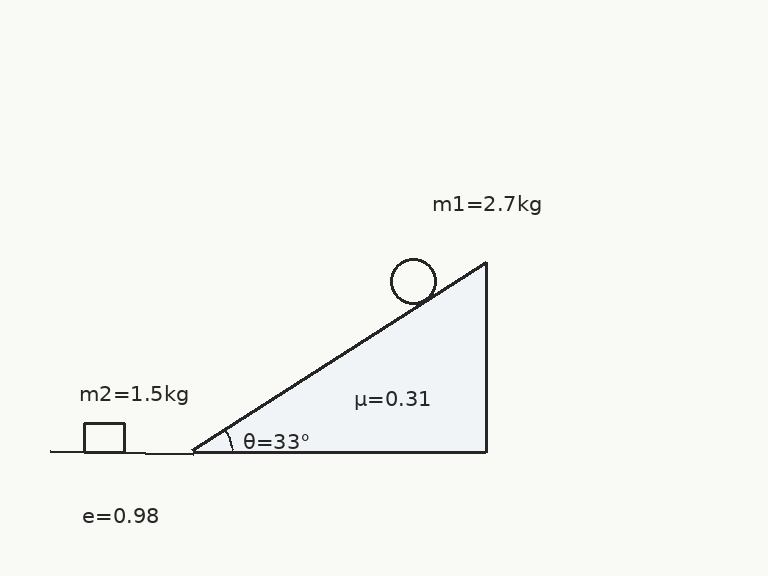ball: (388, 256, 438, 306)
block: (82, 421, 126, 454)
ramp: (190, 259, 488, 454)
